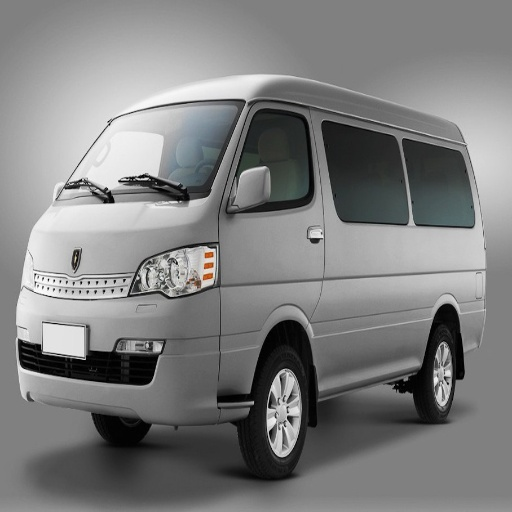front_bumper: (23, 264, 218, 421)
front_glass: (67, 104, 243, 202)
front_left_door: (221, 104, 324, 272)
trunk: (388, 273, 473, 347), (227, 302, 279, 394)
